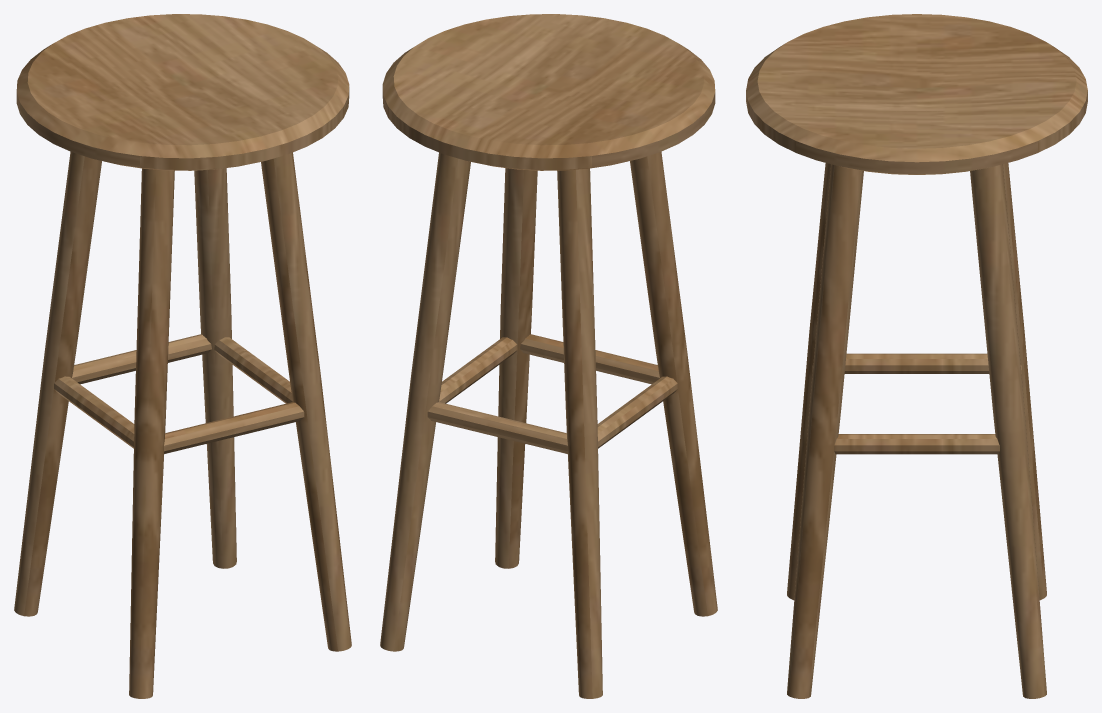
File: taburete_madera_65.glb
3 renders of one model, left to right at view 1: azimuth 30°, elevation 25°; view 2: azimuth 150°, elevation 25°; view 3: azimuth 270°, elevation 25°, orthographic. The views are drawn at different scales.
Visible parts, largest first — view 1: taburete_madera_65; view 2: taburete_madera_65; view 3: taburete_madera_65.
Boxes of the visible parts, x1=… form: taburete_madera_65: x1=14, y1=14, x2=351, y2=698; taburete_madera_65: x1=380, y1=14, x2=717, y2=698; taburete_madera_65: x1=746, y1=14, x2=1087, y2=698.
Size of the model in its own units: 0.36 by 0.6566 by 0.36.
Materials: 1 (1 with a texture image).
